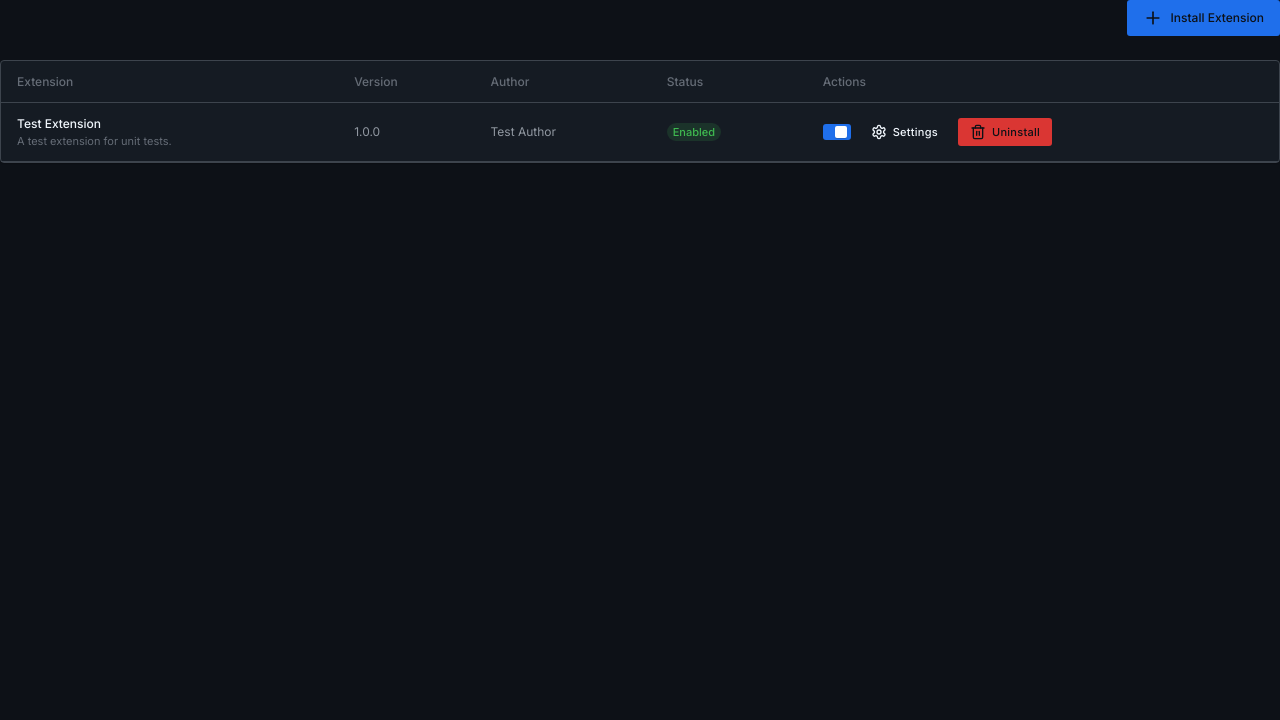
Test case: ExtensionManager › shows uninstall confirmation modal
Expected: the text "Test Extension" is shown, x1=17 y1=116 x2=101 y2=131
Click the button with aria-label "Uninstall Test Extension" at (1005, 132), box x1=958 y1=118 x2=1052 y2=146
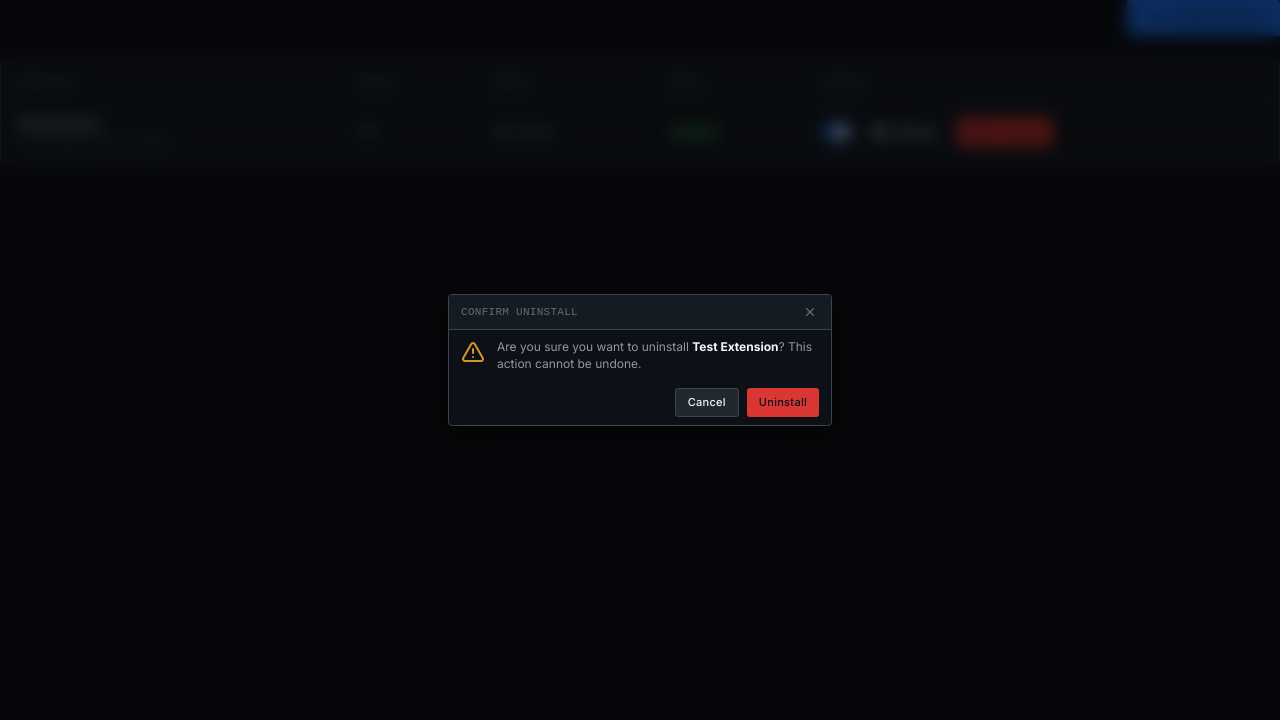
Expected: the heading "Confirm Uninstall" is shown, x1=461 y1=305 x2=578 y2=319
Expected: the text "Are you sure you want to uninstall" is shown, x1=497 y1=339 x2=689 y2=354
